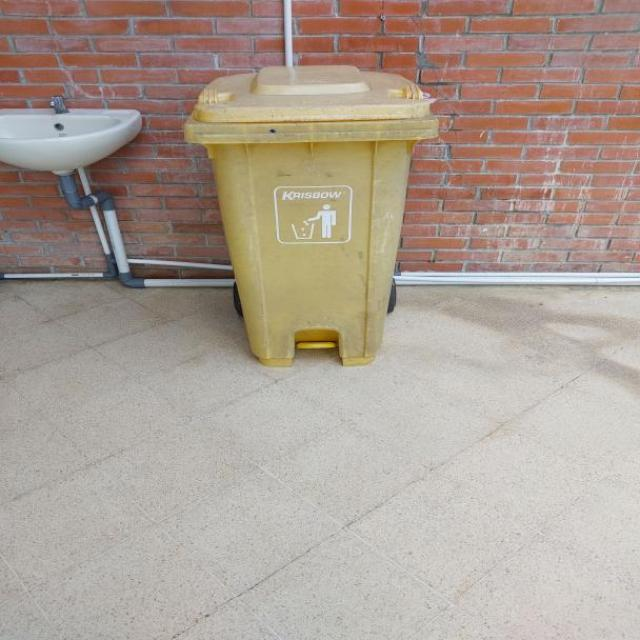dustbin ahead at: (184, 62, 434, 374)
